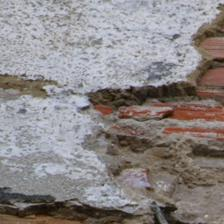Crack: (132, 0, 195, 177), (79, 123, 163, 161)
